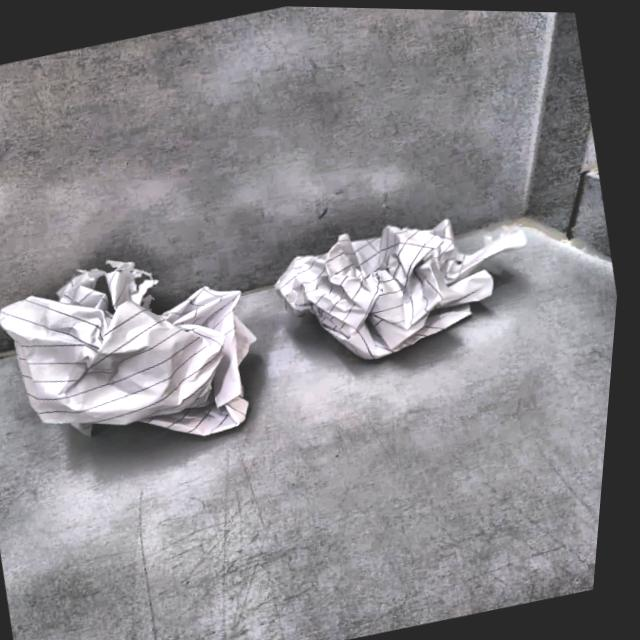Paper: (0, 218, 303, 494), (276, 180, 556, 382)
